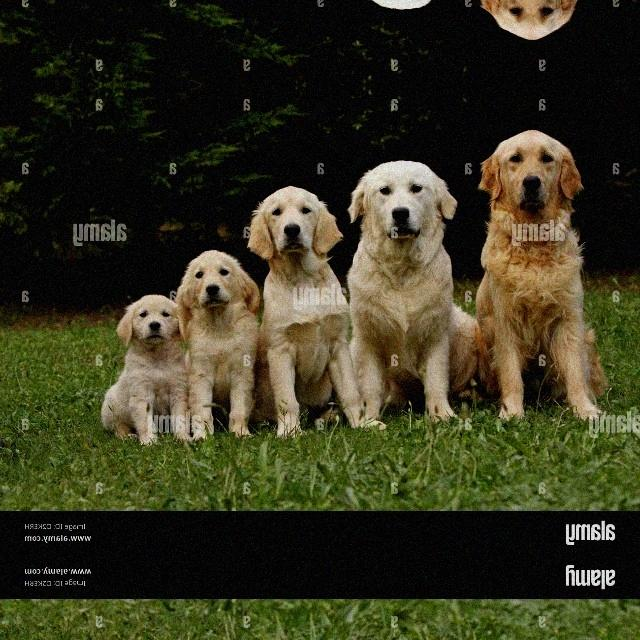dog: (476, 111, 602, 443), (338, 132, 472, 428), (250, 154, 344, 463), (97, 264, 177, 471), (178, 236, 246, 454), (477, 0, 602, 57), (338, 0, 472, 35), (250, 0, 345, 13), (97, 639, 177, 640)
